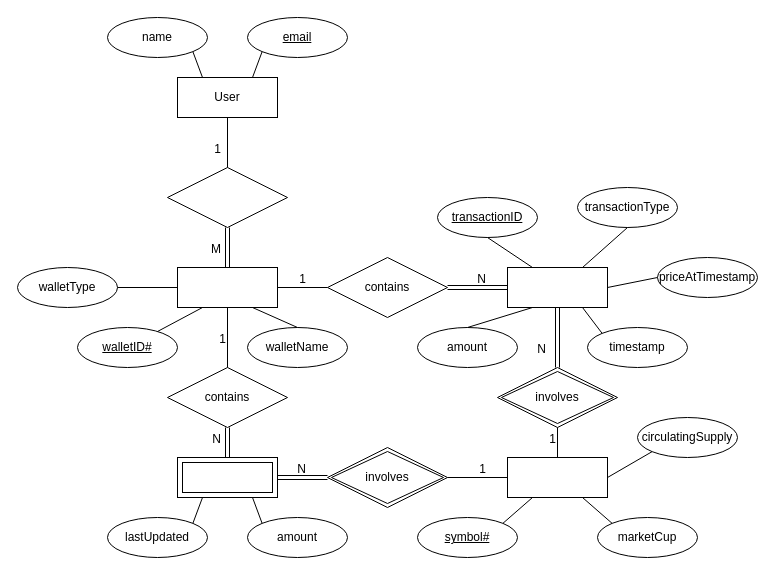
Some shapes in this 775 by 575 pixel diagram are drawn without their labels. Each missing label, with the centre of its shape:
Cryptocurrency: the point at 557,477
has: the point at 227,197
Transaction: the point at 557,287
Wallet: the point at 227,287
WalletBalance: the point at 227,477
